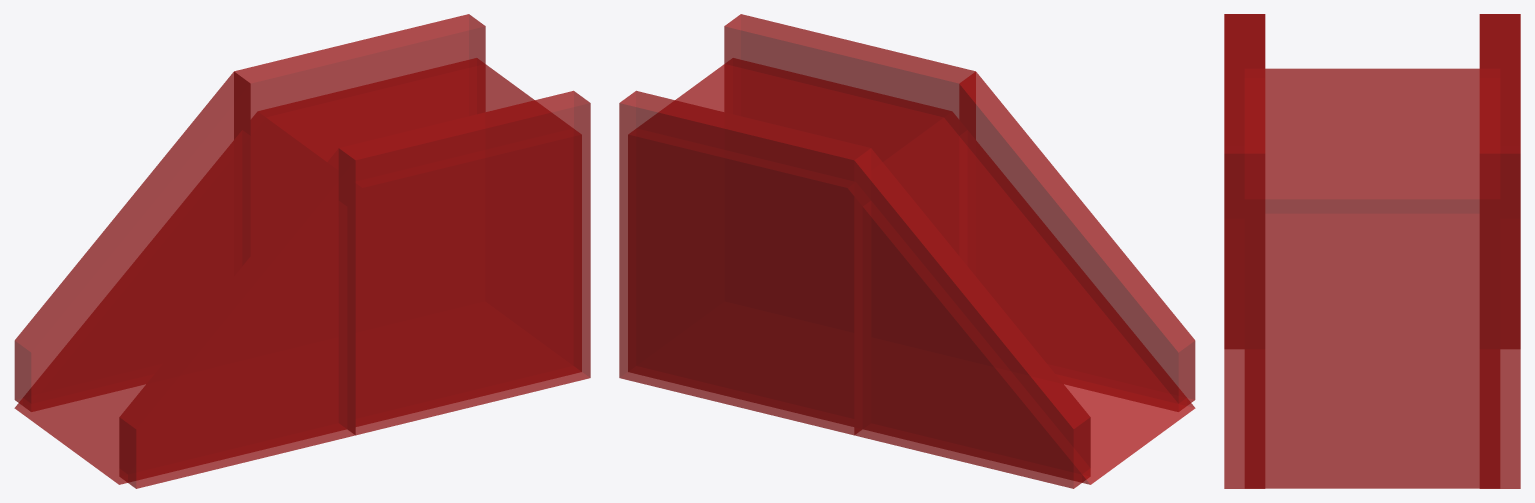
File: SM_Bld_Stairs_Straight_Edges_02_Collision.fbx
3 renders of one model, left to right at view 1: azimuth 30°, elevation 25°; view 2: azimuth 150°, elevation 25°; view 3: azimuth 270°, elevation 25°, orthographic. The views are drawn at different scales.
Parts seen in each view (by area): view 1: SM_Bld_Stairs_Straight_Edges_02_Collision; view 2: SM_Bld_Stairs_Straight_Edges_02_Collision; view 3: SM_Bld_Stairs_Straight_Edges_02_Collision.
Boxes of the visible parts, <box> form: SM_Bld_Stairs_Straight_Edges_02_Collision: <box>14,14,590,488</box>; SM_Bld_Stairs_Straight_Edges_02_Collision: <box>619,14,1195,488</box>; SM_Bld_Stairs_Straight_Edges_02_Collision: <box>1224,14,1520,488</box>.
Size of the model in its own units: 510 by 290 by 232.
